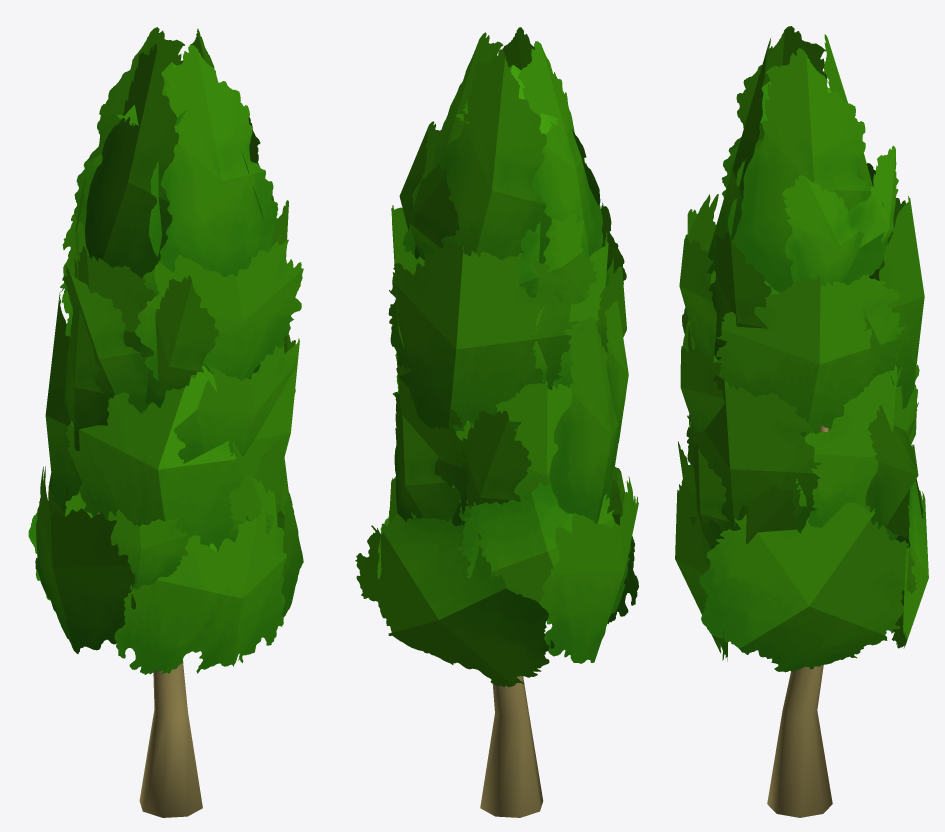
File: BirchTree_v1.fbx
The picture shows the model from 3 angles, left to right: view 1: azimuth 30°, elevation 25°; view 2: azimuth 150°, elevation 25°; view 3: azimuth 270°, elevation 25°; orthographic projection.
Visible parts, largest first — view 1: Treetop_Leafs, BirchTree_v1, Treetop; view 2: Treetop_Leafs, BirchTree_v1, Treetop; view 3: Treetop_Leafs, BirchTree_v1, Treetop.
Boxes of the visible parts, <box> form: Treetop_Leafs: <box>28,27,303,674</box>; BirchTree_v1: <box>139,709,202,817</box>; Treetop: <box>97,512,187,717</box>; Treetop_Leafs: <box>355,27,638,687</box>; BirchTree_v1: <box>480,710,543,817</box>; Treetop: <box>492,676,528,718</box>; Treetop_Leafs: <box>675,26,928,672</box>; BirchTree_v1: <box>767,711,832,817</box>; Treetop: <box>782,425,828,717</box>.
Size of the model in its own units: 12.79 by 40.48 by 12.17.
